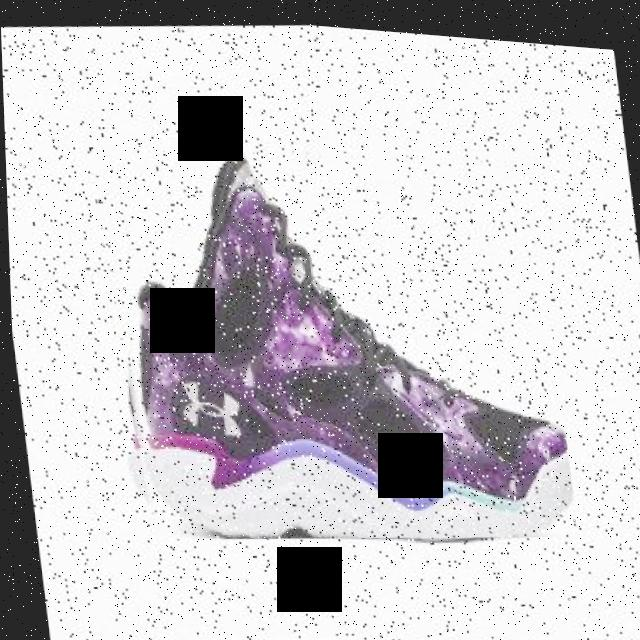shoe: (84, 104, 575, 565)
